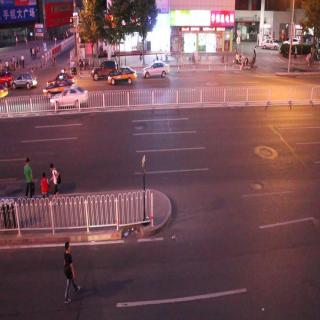Car: (140, 58, 176, 82), (50, 90, 93, 110), (109, 68, 140, 88), (90, 59, 118, 80), (11, 74, 42, 92)
